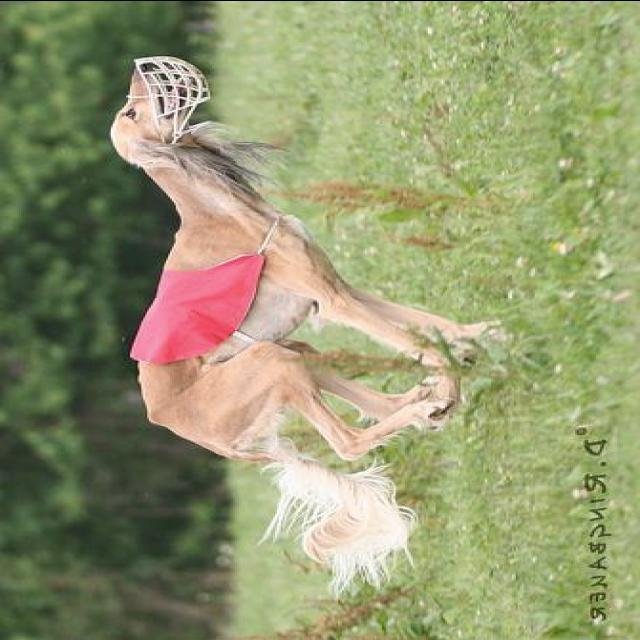saluki: (105, 53, 501, 596)
